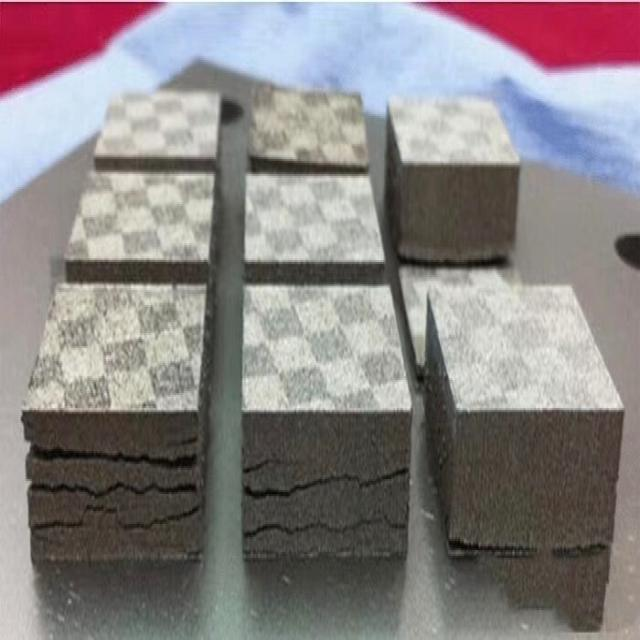Warping: (26, 429, 214, 565), (230, 456, 403, 540)
